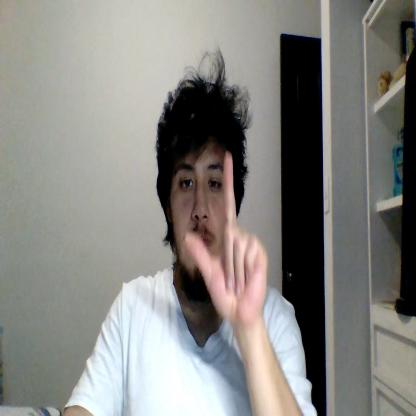L: (186, 151, 268, 320)
